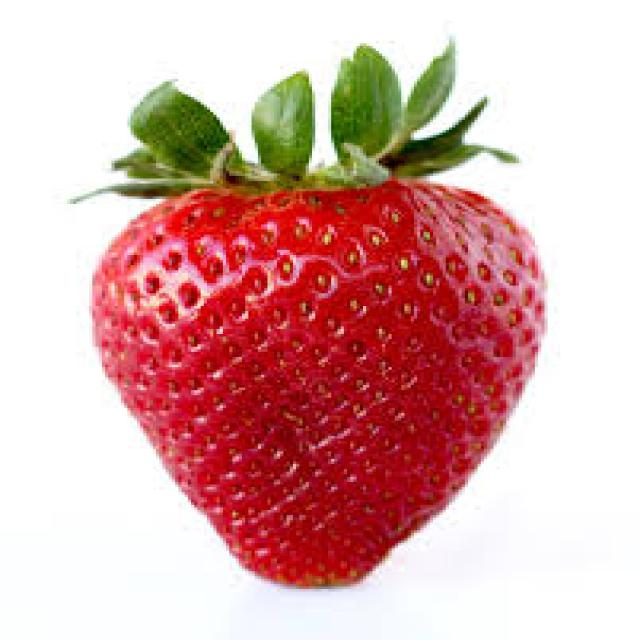strawberry: (27, 100, 567, 604)
